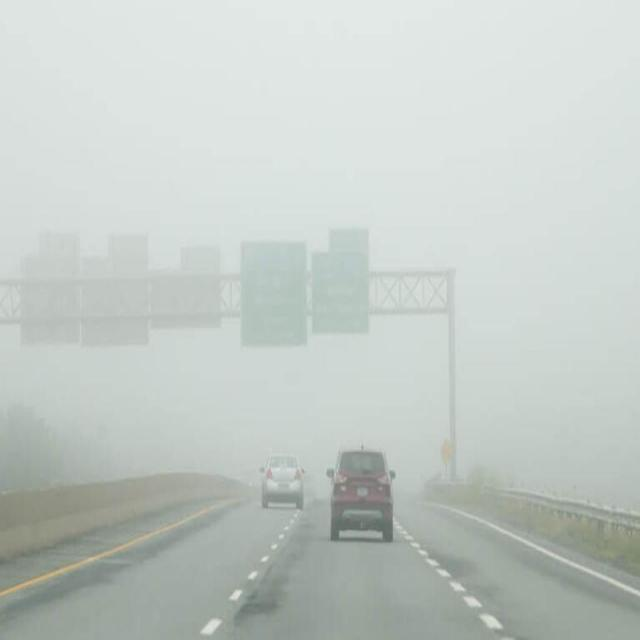Car: (326, 441, 397, 544), (259, 452, 306, 512)
